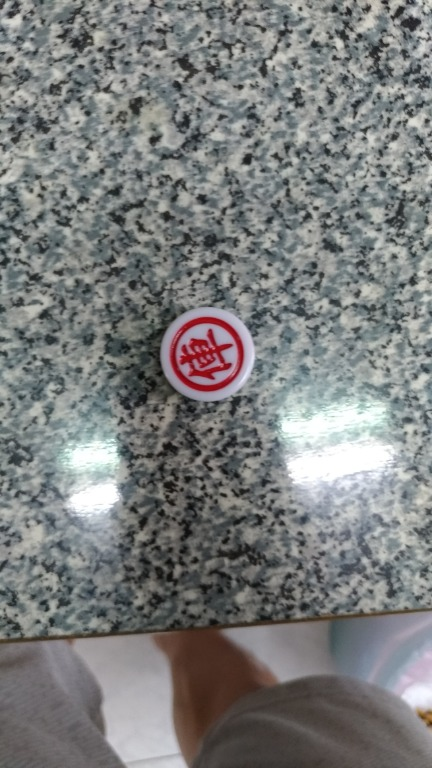r-rook: (148, 296, 275, 415)
